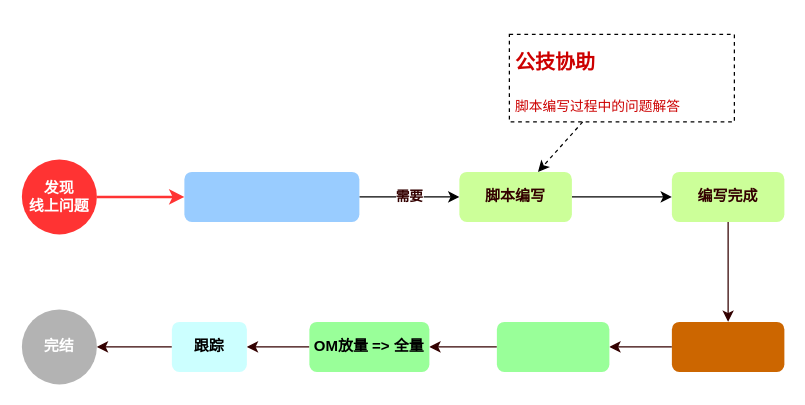
The diagram is 805 pixels wide and 405 high, and some of its shapes have lost their labels. The centre of each missing label's shape, as x and y in pixels:
"OM发布-灰度" belongs at (x=552, y=346).
"QA测试" belongs at (x=727, y=346).
"业务-评估 是否需要hotpatch" belongs at (x=271, y=196).
